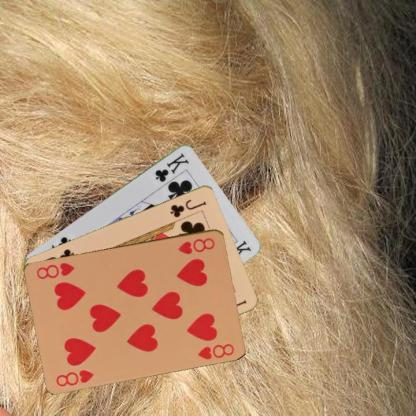8h: (53, 366, 96, 388), (176, 234, 216, 255)
Jc: (168, 196, 208, 218)
Kc: (152, 150, 190, 183)
